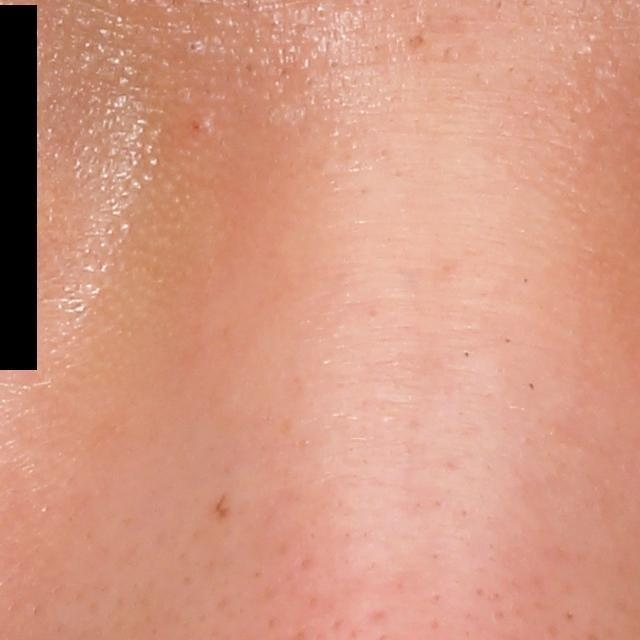comedo: (183, 39, 200, 57)
nevus: (215, 493, 228, 521)
